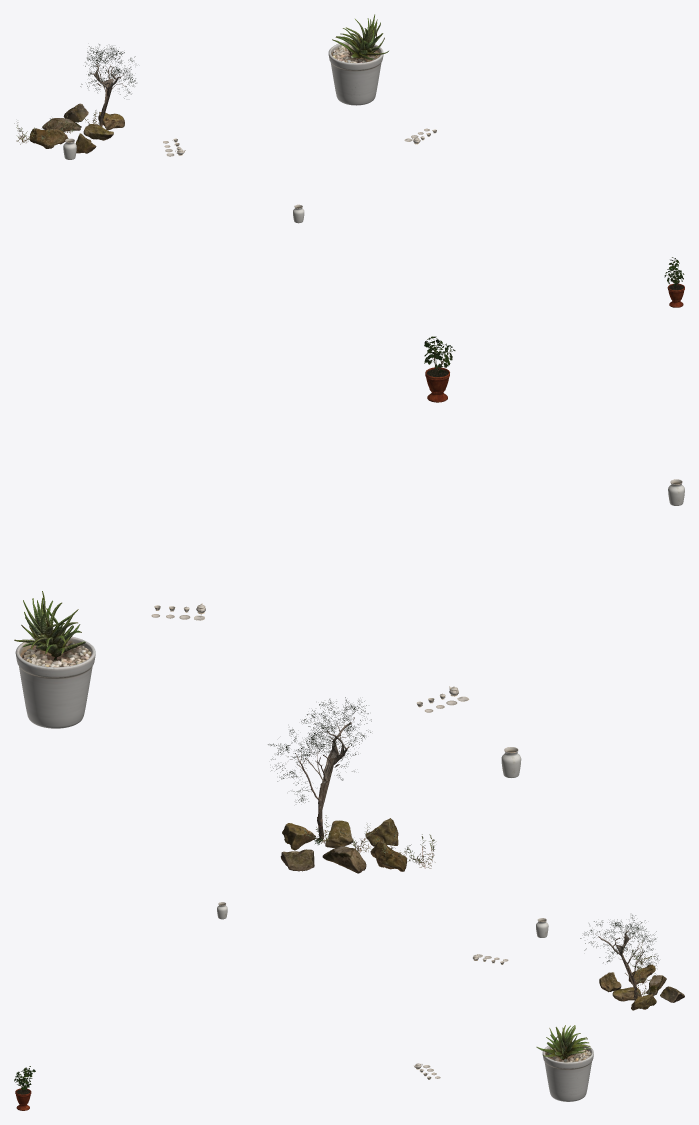
The model's file is props.glb.
3 views of the same model, one above another, from view 1: azimuth 30°, elevation 25°; view 2: azimuth 150°, elevation 25°; view 3: azimuth 270°, elevation 25° (orthographic). The views are drawn at different scales.
Visible parts, largest first — view 1: P_plant_lv_potted_plant_04_pot, P_plant_lv_potted_plant_04_plant, P_maple_tree_small_02_LOD0, P_rocks_rock_moss_set_01_rock01; view 2: P_plant_lv_potted_plant_04_pot, P_maple_tree_small_02_LOD0, P_plant_lv_potted_plant_04_plant, P_plant_lv_potted_plant_04_ground, P_maple_tree_small_02_trunk; view 3: P_plant_lv_potted_plant_04_pot, P_plant_lv_potted_plant_04_plant, P_maple_tree_small_02_LOD0, P_maple_tree_small_02_trunk.
Part boxes in pixels (x1,y1,x2,y2): P_plant_lv_potted_plant_04_pot: [328, 42, 383, 105]; P_plant_lv_potted_plant_04_plant: [332, 14, 388, 59]; P_maple_tree_small_02_LOD0: [80, 44, 136, 120]; P_rocks_rock_moss_set_01_rock01: [29, 128, 68, 148]; P_plant_lv_potted_plant_04_pot: [15, 636, 95, 728]; P_maple_tree_small_02_LOD0: [268, 697, 371, 809]; P_plant_lv_potted_plant_04_plant: [14, 591, 85, 660]; P_plant_lv_potted_plant_04_ground: [22, 642, 90, 667]; P_maple_tree_small_02_trunk: [295, 722, 351, 838]; P_plant_lv_potted_plant_04_pot: [542, 1043, 593, 1101]; P_plant_lv_potted_plant_04_plant: [536, 1025, 591, 1059]; P_maple_tree_small_02_LOD0: [580, 915, 659, 992]; P_maple_tree_small_02_trunk: [598, 929, 642, 998].
Bounding box in the file's own units: 7.19 × 1.91 × 13.05.
12 materials, 12 textured.
